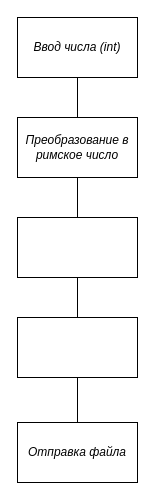
This 155x500 diagram has some shape labels left out. The shapes that lost their labels are listed below. From the top down, each one's centre as x and y in pixels, then its label:
At pixel 77 247: "Сохранениет в файл".
At pixel 77 347: "Подключение к TCP серверу".
